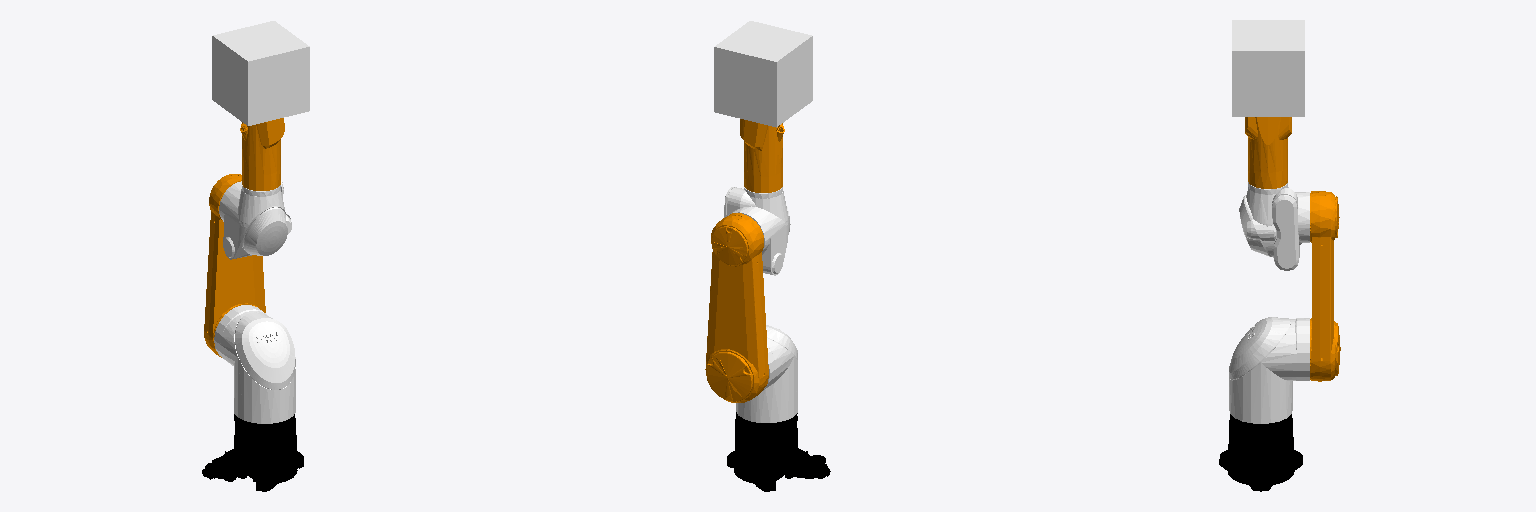
robot.urdf — TX60L:
<?xml version="1.0"?>
<robot name="TX60L">

<link name="base_link" >
	<visual>
		<geometry>
			<mesh filename="package://tx60l_urdf/meshes/bt.stl"/>
		</geometry>
		<origin xyz="0 0 0" rpy="0 0 0" />
		<material name="black">
		<color rgba="0 0 0 1"/>
		</material>
	</visual>
	<collision>
		<geometry>
			<mesh filename="package://tx60l_urdf/meshes/bt_col.stl"/>
		</geometry>
		<origin xyz="0 0 0" rpy="0 0 0" />
	</collision>
</link>

<joint name="joint_1" type="revolute">
	<parent link="base_link"/>
	<child link="at1"/>
	<origin xyz="0 0 0.375" rpy="0 0 3.1416" />
	<axis xyz="0 0 1" />
	<limit lower="-3.1241" upper="3.1241" effort="100" velocity="435" />
</joint>

<link name="at1" >
	<visual>
		<geometry>
			<mesh filename="package://tx60l_urdf/meshes/at1.stl"/>
		</geometry>
		<origin xyz="0 0 0" rpy="4.7124 0 3.1416" />
		<material name="white">
		<color rgba="1 1 1 1"/>
		</material>
	</visual>
	<collision>
		<geometry>
			<mesh filename="package://tx60l_urdf/meshes/at1_col.stl"/>
		</geometry>
		<origin xyz="0 0 0" rpy="4.7124 0 3.1416" />
	</collision>
</link>

<joint name="joint_2" type="revolute">
	<parent link="at1"/>
	<child link="at2"/>
	<origin xyz="0 0 0" rpy="0 0 0" />
	<axis xyz="0 -1 0" />
	<limit lower="-2.2078" upper="2.2078" effort="100" velocity="385" />
</joint>

<link name="at2" >
	<visual>
	<geometry>
		<mesh filename="package://tx60l_urdf/meshes/at2.stl"/>
	</geometry>
	<origin xyz="0 0 0" rpy="1.5708 3.1416 0" />
	<material name="orange">
		<color rgba="1 0.6 0 1"/>
	</material>
	</visual>

<collision>
	<geometry>
		<mesh filename="package://tx60l_urdf/meshes/at2_col.stl"/>
	</geometry>
	<origin xyz="0 0 0" rpy="1.5708 3.1416 0" />
</collision>
</link>

<joint name="joint_3" type="revolute">
	<parent link="at2"/>
	<child link="at3"/>
	<origin xyz="0 0.02 0.400" rpy="0 0 0" />
	<axis xyz="0 -1 0" />
	<limit lower="-2.6442" upper="2.6442" effort="100" velocity="500" />
</joint>

<link name="at3" >
	<visual>
	<geometry>
		<mesh filename="package://tx60l_urdf/meshes/at3.stl"/>
	</geometry>
	<origin xyz="0 -0.04 0" rpy="4.7124 0 3.1416"/>
	<material name="white">
		<color rgba="1 1 1 1"/>
	</material>
	</visual>
	<collision>
		<geometry>
			<mesh filename="package://tx60l_urdf/meshes/at3_col.stl"/>
		</geometry>
		<origin xyz="0 -0.04 0" rpy="4.7124 0 3.1416" />
	</collision>
</link>

<joint name="joint_4" type="revolute">
	<parent link="at3"/>
	<child link="at4"/>
	<origin xyz="0 -0.04 0" rpy="0 0 3.1416" />
	<axis xyz="0 0 1" />
	<limit lower="-4.6949" upper="4.6949" effort="100" velocity="995" />
</joint>

<link name="at4" >
	<visual>
		<geometry>
			<mesh filename="package://tx60l_urdf/meshes/at4.stl"/>
		</geometry>
		<origin xyz="0 0 0" rpy="0 0 0"/>
		<material name="orange">
			<color rgba="1 0.6 0 1"/>
		</material>
	</visual>
	<collision>
		<geometry>
			<mesh filename="package://tx60l_urdf/meshes/at4_col.stl"/>
		</geometry>
		<origin xyz="0 0 0" rpy="0 0 0" />
	</collision>
</link>

<joint name="joint_5" type="revolute">
	<parent link="at4"/>
	<child link="at5"/>
	<origin xyz="0 0 0.450" rpy="0 0 0" />
	<axis xyz="0 1 0" />
	<limit lower="-2.2078" upper="2.2951" effort="100" velocity="1065" />
</joint>

<link name="at5" >
	<visual>
		<geometry>
			<mesh filename="package://tx60l_urdf/meshes/at5.stl"/>
		</geometry>
		<origin xyz="0 0 0" rpy="-1.57079635 0 0"/>
		<material name="white">
			<color rgba="1 1 1 1"/>
		</material>
	</visual>
	<collision>
		<geometry>
			<mesh filename="package://tx60l_urdf/meshes/at5_col.stl"/>
		</geometry>
		<origin xyz="0 0 0" rpy="-1.57079635 0 0" />
	</collision>
</link>

<joint name="joint_6" type="revolute">
	<parent link="at5"/>
	<child link="at6"/>
	<origin xyz="0 0 0" rpy="0 0 0" />
	<axis xyz="0 0 1" />
	<limit lower="-4.6949" upper="4.6949" effort="100" velocity="435" />
</joint>

<link name="at6" >
	<visual>
		<geometry>
			<mesh filename="package://tx60l_urdf/meshes/at6.stl"/>
		</geometry>
		<origin xyz="0 0 0.0825" rpy="0 0 0"/>
		<material name="orange">
			<color rgba="1 0.6 0 1"/>
		</material>
	</visual>
	<collision>
		<geometry>
			<mesh filename="package://tx60l_urdf/meshes/at6.stl"/>
		</geometry>
		<origin xyz="0 0 0.0825" rpy="0 0 0" />
	</collision>
</link>

<joint name="joint_7" type="fixed">
	<parent link="at6"/>
	<child link="dummy"/>
	<origin xyz="0 0 0" rpy="0 0 0" />
</joint>

<link name="dummy" >
	<visual>
		<geometry>
			<box size="0.2 0.2 0.2" />
		</geometry>
	<material name="invisible">
		<color rgba="1 1 1 0"/>
	</material>
	</visual>
	<collision>
		<geometry>
			<box size="0.01 0.01 0.01" />
		</geometry>
	</collision>
</link>

</robot>

--- Render facts (derived) ---
The picture shows the robot from 3 angles, left to right: view 1: azimuth 30°, elevation 25°; view 2: azimuth 150°, elevation 25°; view 3: azimuth 270°, elevation 25°; orthographic projection.
Robot: TX60L — 8 links, 7 joints (6 revolute, 1 fixed); root link base_link; default pose: all joints at 0.
Visible links, largest first — view 1: dummy, at1, base_link, at2, at3, at4; view 2: at2, dummy, base_link, at1, at3, at4; view 3: dummy, at1, at2, at3, base_link, at4.
Link boxes in pixels (bbox=[...]): dummy: bbox=[212, 21, 309, 125]; at1: bbox=[214, 305, 295, 423]; base_link: bbox=[202, 414, 303, 491]; at2: bbox=[204, 174, 265, 357]; at3: bbox=[219, 180, 291, 259]; at4: bbox=[240, 118, 284, 190]; at2: bbox=[705, 213, 768, 402]; dummy: bbox=[714, 21, 812, 127]; base_link: bbox=[727, 412, 830, 491]; at1: bbox=[736, 325, 797, 422]; at3: bbox=[724, 187, 790, 275]; at4: bbox=[740, 119, 784, 192]; dummy: bbox=[1232, 20, 1304, 116]; at1: bbox=[1229, 317, 1309, 423]; at2: bbox=[1310, 191, 1340, 381]; at3: bbox=[1239, 182, 1309, 270]; base_link: bbox=[1219, 414, 1302, 491]; at4: bbox=[1245, 117, 1291, 188].
Bounding box of the posed robot: 0.3155 × 0.3331 × 1.32 m (x, y, z).
Meshes: 7 distinct files referenced, 7 mesh visuals loaded (7 binary STL).